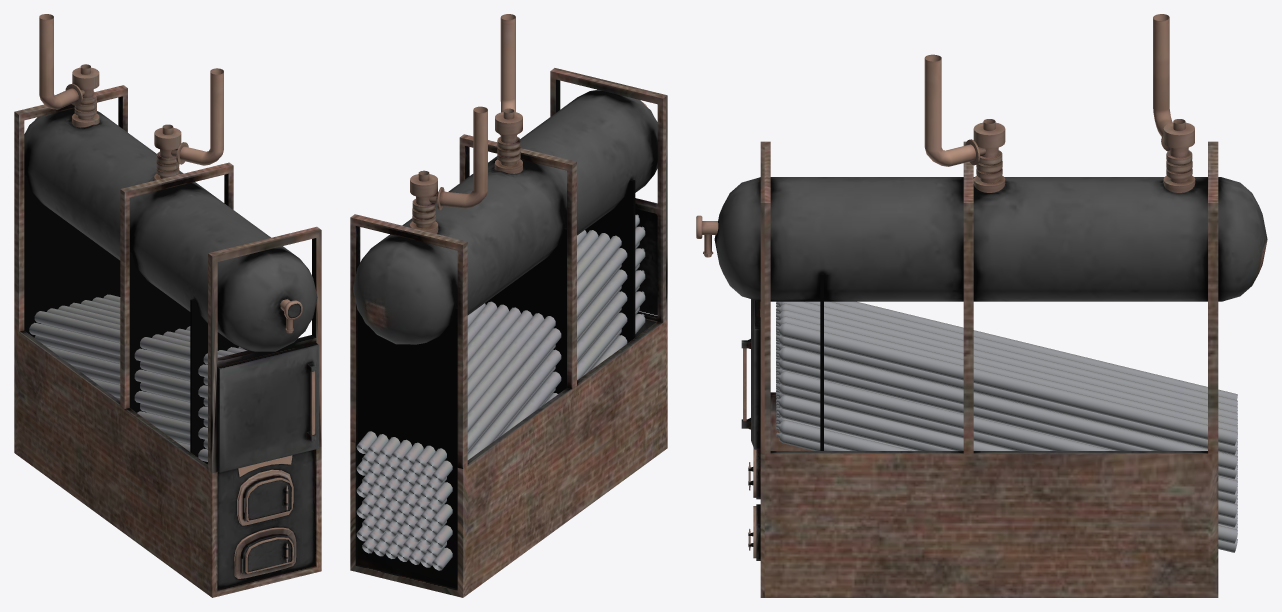
File: boiler.gltf
The picture shows the model from 3 angles, left to right: view 1: azimuth 30°, elevation 25°; view 2: azimuth 150°, elevation 25°; view 3: azimuth 270°, elevation 25°; orthographic projection. The views are drawn at different scales.
Visible parts, largest first — view 1: Sketchfab_model; view 2: Sketchfab_model; view 3: Sketchfab_model.
Boxes of the visible parts, x1=… form: Sketchfab_model: x1=14, y1=14, x2=321, y2=597; Sketchfab_model: x1=350, y1=14, x2=667, y2=597; Sketchfab_model: x1=696, y1=14, x2=1267, y2=597.
Bounding box in the file's own units: 0.8079 × 3.2 × 3.17.
Materials: 1 (1 with a texture image).
